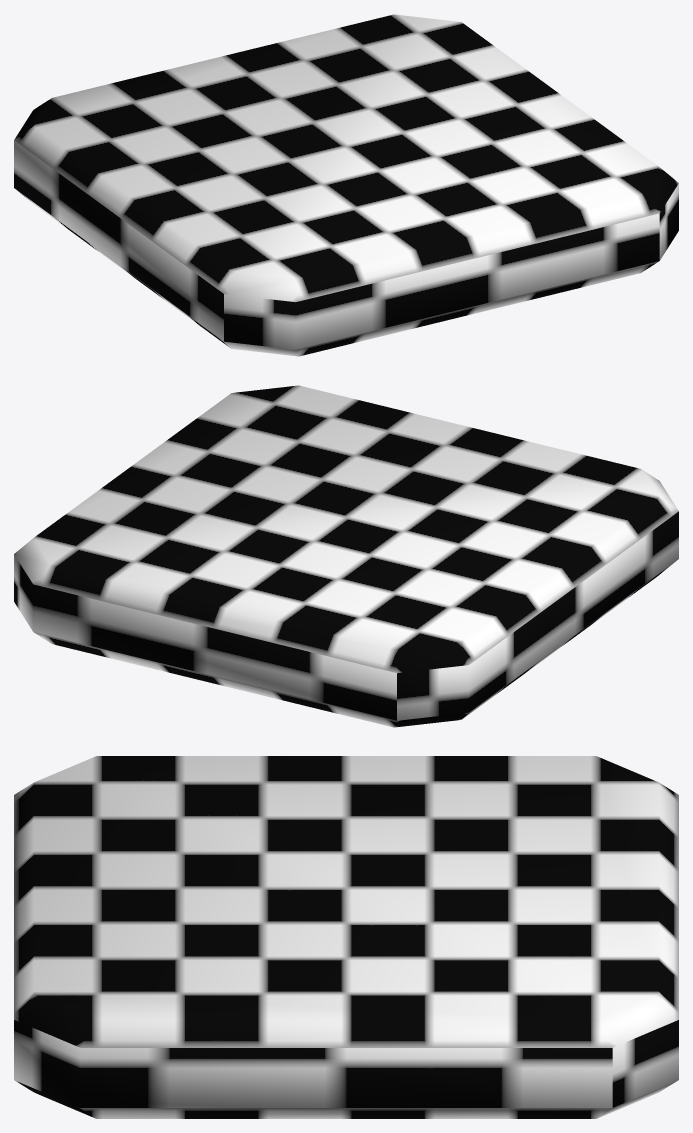
Rendered from initqu11.dae.
3 views of the same model, one above another, from view 1: azimuth 30°, elevation 25°; view 2: azimuth 150°, elevation 25°; view 3: azimuth 270°, elevation 25° (orthographic). The views are drawn at different scales.
Visible parts, largest first — view 1: item; view 2: item; view 3: item.
Boxes of the visible parts, left/top/right/bottom form: item: left=14, top=14, right=678, bottom=356; item: left=14, top=385, right=678, bottom=727; item: left=14, top=756, right=678, bottom=1118.
Size of the model in its own units: 0.8612 by 0.8612 by 0.141.
1 material, 1 textured.
